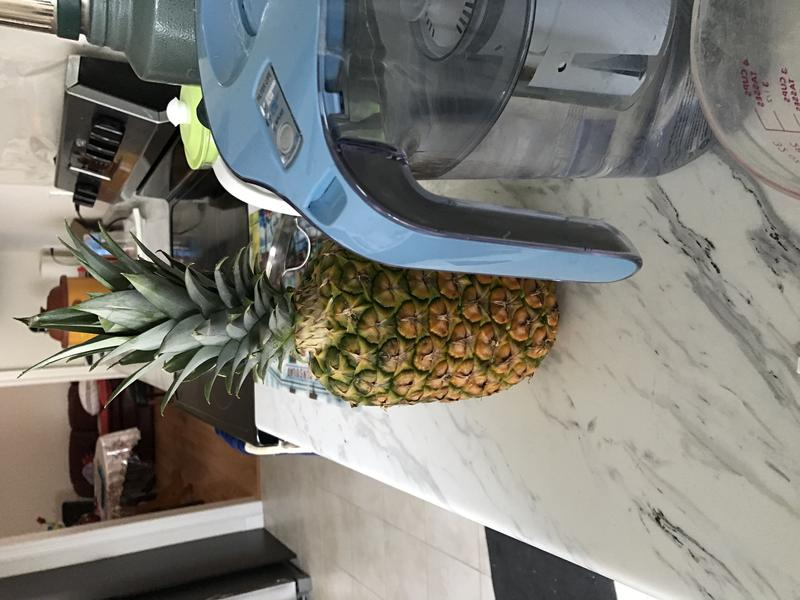pineapple: (21, 215, 567, 413)
